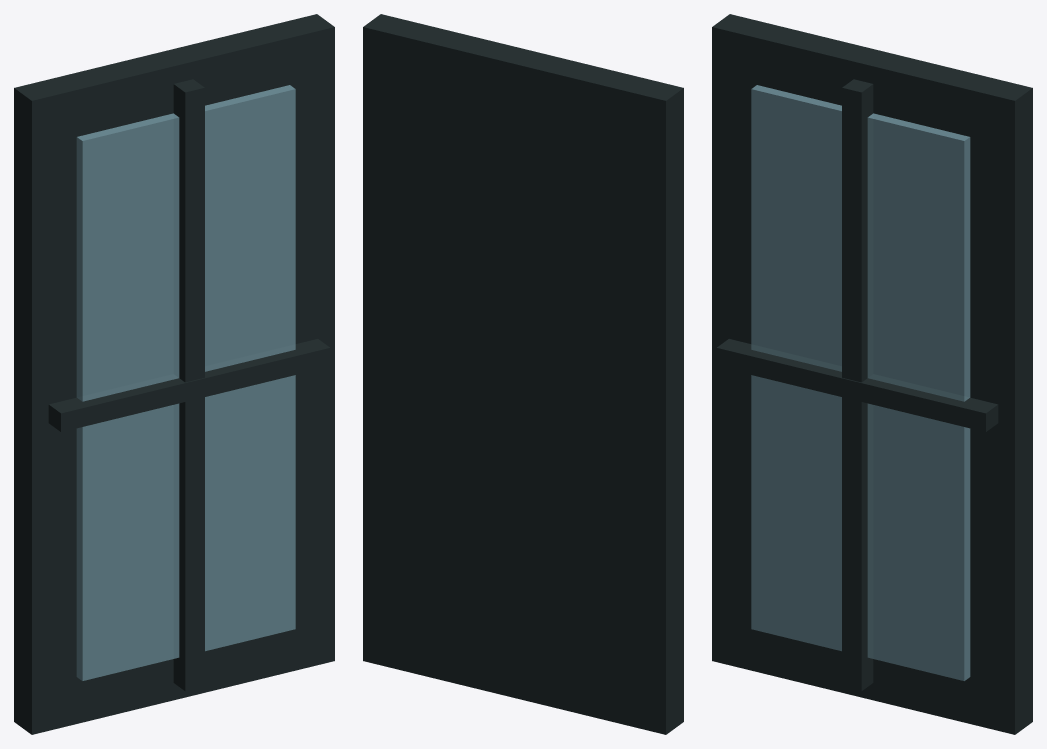
File: component-window-slim.meshopt.glb
The picture shows the model from 3 angles, left to right: view 1: azimuth 30°, elevation 25°; view 2: azimuth 150°, elevation 25°; view 3: azimuth 330°, elevation 25°; orthographic projection.
Parts seen in each view (by area): view 1: slim_window_frame, slim_window_glass, slim_window_mullion_v, slim_window_mullion_h; view 2: slim_window_frame; view 3: slim_window_frame, slim_window_glass, slim_window_mullion_v, slim_window_mullion_h.
Part boxes in pixels (x1,y1,x2,y2): slim_window_frame: [14, 14, 334, 734]; slim_window_glass: [76, 85, 295, 680]; slim_window_mullion_v: [173, 79, 204, 691]; slim_window_mullion_h: [48, 339, 330, 432]; slim_window_frame: [363, 14, 683, 734]; slim_window_frame: [712, 14, 1032, 734]; slim_window_glass: [751, 85, 970, 680]; slim_window_mullion_v: [842, 79, 873, 691]; slim_window_mullion_h: [716, 339, 998, 432].
Size of the model in its own units: 0.5401 by 1.08 by 0.093.
